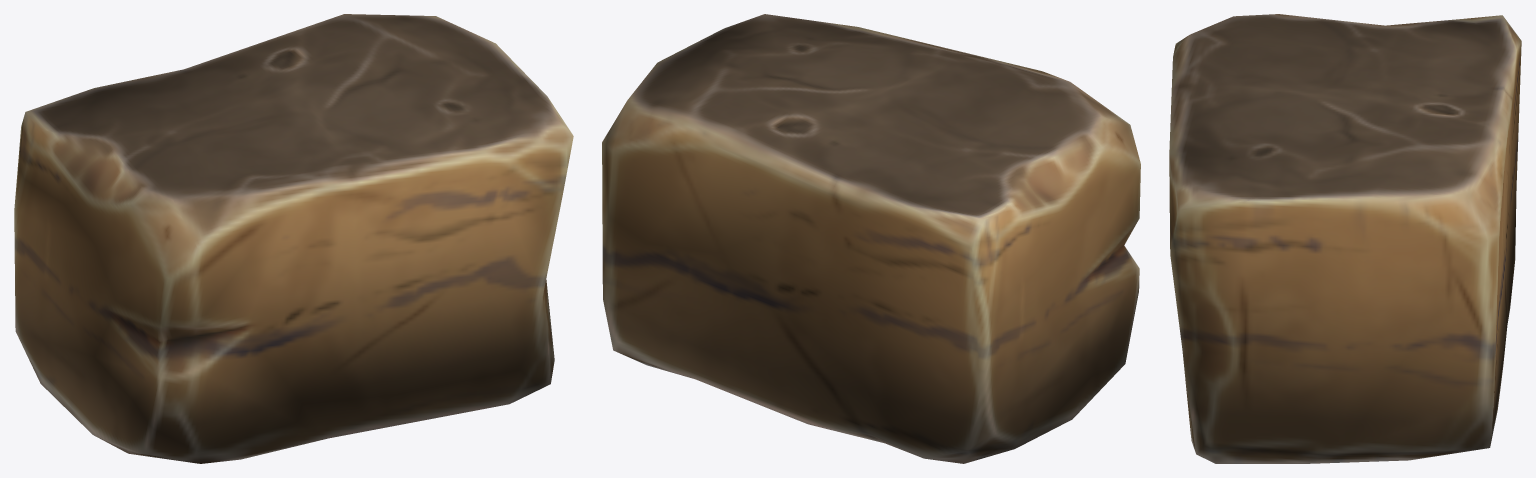
File: SM_Gem_EyeOfTiger_003.fbx
3 renders of one model, left to right at view 1: azimuth 30°, elevation 25°; view 2: azimuth 150°, elevation 25°; view 3: azimuth 270°, elevation 25°, orthographic. The views are drawn at different scales.
Parts seen in each view (by area): view 1: SM_Gem_EyeOfTiger_003; view 2: SM_Gem_EyeOfTiger_003; view 3: SM_Gem_EyeOfTiger_003.
Part boxes in pixels (<box>): SM_Gem_EyeOfTiger_003: <box>14,14,573,463</box>; SM_Gem_EyeOfTiger_003: <box>602,14,1140,463</box>; SM_Gem_EyeOfTiger_003: <box>1169,14,1521,463</box>.
Bounding box in the file's own units: 39.79 × 26.44 × 28.57.
